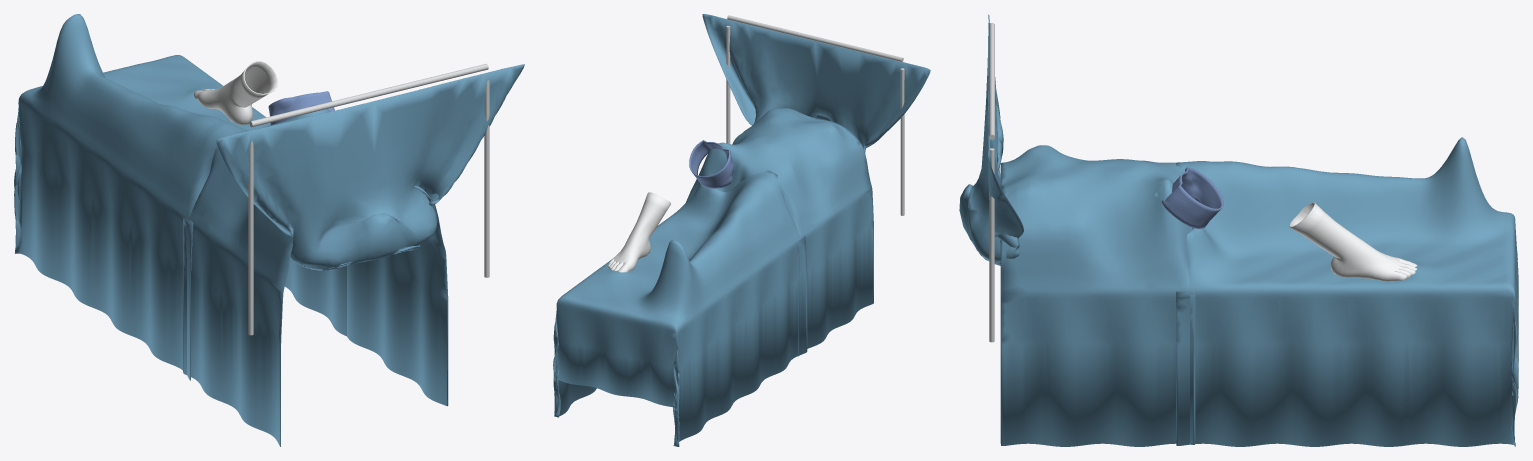
The model's file is SurgicalDrape.fbx.
3 renders of one model, left to right at view 1: azimuth 30°, elevation 25°; view 2: azimuth 150°, elevation 25°; view 3: azimuth 270°, elevation 25°, orthographic. The views are drawn at different scales.
Visible parts, largest first — view 1: Drape_Lower, Drape_Screen, Drape_Upper, ScreenFrame, Stockinette, ThighCuff; view 2: Drape_Lower, Drape_Upper, Drape_Screen, ScreenFrame, Stockinette, ThighCuff; view 3: Drape_Lower, Drape_Upper, Drape_Screen, Stockinette, ThighCuff, ScreenFrame.
Part boxes in pixels (box(x1,y1,x2,y2)): Drape_Lower: box(14, 14, 346, 380); Drape_Screen: box(216, 64, 524, 270); Drape_Upper: box(183, 104, 448, 446); ScreenFrame: box(248, 63, 489, 335); Stockinette: box(194, 61, 277, 124); ThighCuff: box(268, 91, 334, 124); Drape_Lower: box(553, 170, 807, 446); Drape_Upper: box(686, 107, 873, 356); Drape_Screen: box(702, 14, 930, 153); ScreenFrame: box(726, 15, 904, 215); Stockinette: box(607, 192, 670, 272); ThighCuff: box(689, 140, 733, 188); Drape_Lower: box(1176, 137, 1518, 446); Drape_Upper: box(1000, 145, 1195, 446); Drape_Screen: box(959, 14, 1023, 265); Stockinette: box(1289, 202, 1417, 281); ThighCuff: box(1162, 167, 1223, 228); ScreenFrame: box(989, 23, 994, 342).
Bounding box in the file's own units: 1.05 × 1.09 × 1.69.
